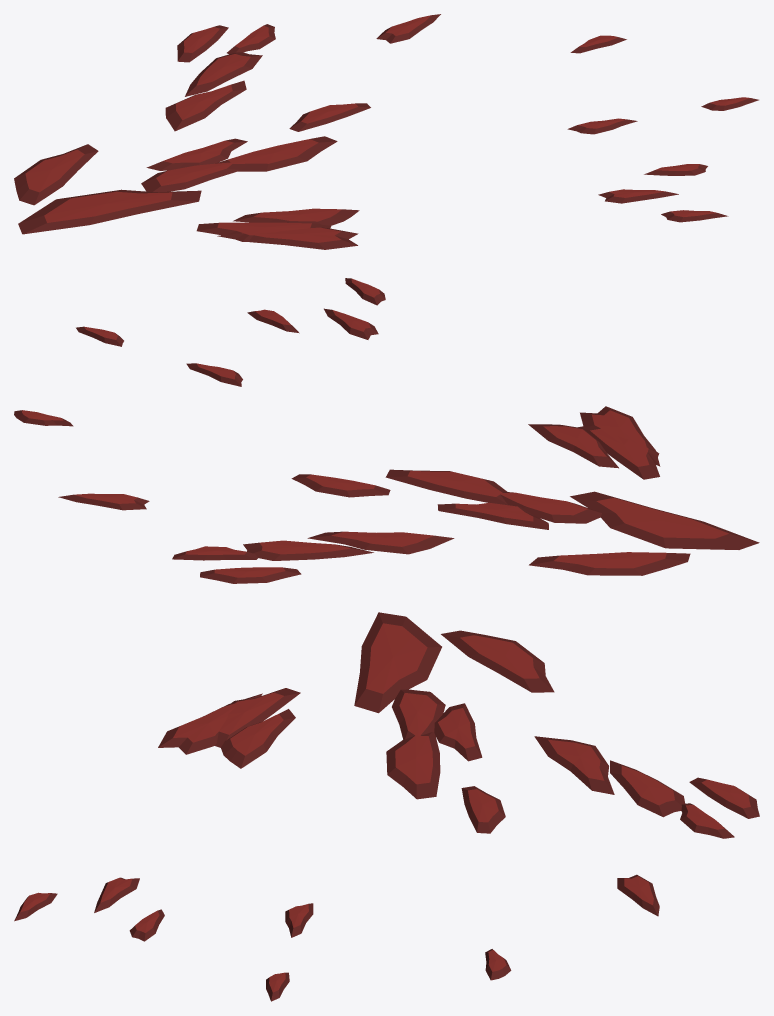
File: gore_spatter.glb
The picture shows the model from 3 angles, top to bottom: view 1: azimuth 30°, elevation 25°; view 2: azimuth 150°, elevation 25°; view 3: azimuth 270°, elevation 25°; orthographic projection. The views are drawn at different scales.
Visible parts, largest first — view 1: NC_gore_spatter; view 2: NC_gore_spatter; view 3: NC_gore_spatter.
Boxes of the visible parts, left/top/right/bottom form: NC_gore_spatter: left=14, top=14, right=758, bottom=249; NC_gore_spatter: left=14, top=278, right=759, bottom=583; NC_gore_spatter: left=14, top=612, right=759, bottom=1001.
Bounding box in the file's own units: 1.01 × 0.0059 × 0.8211.
